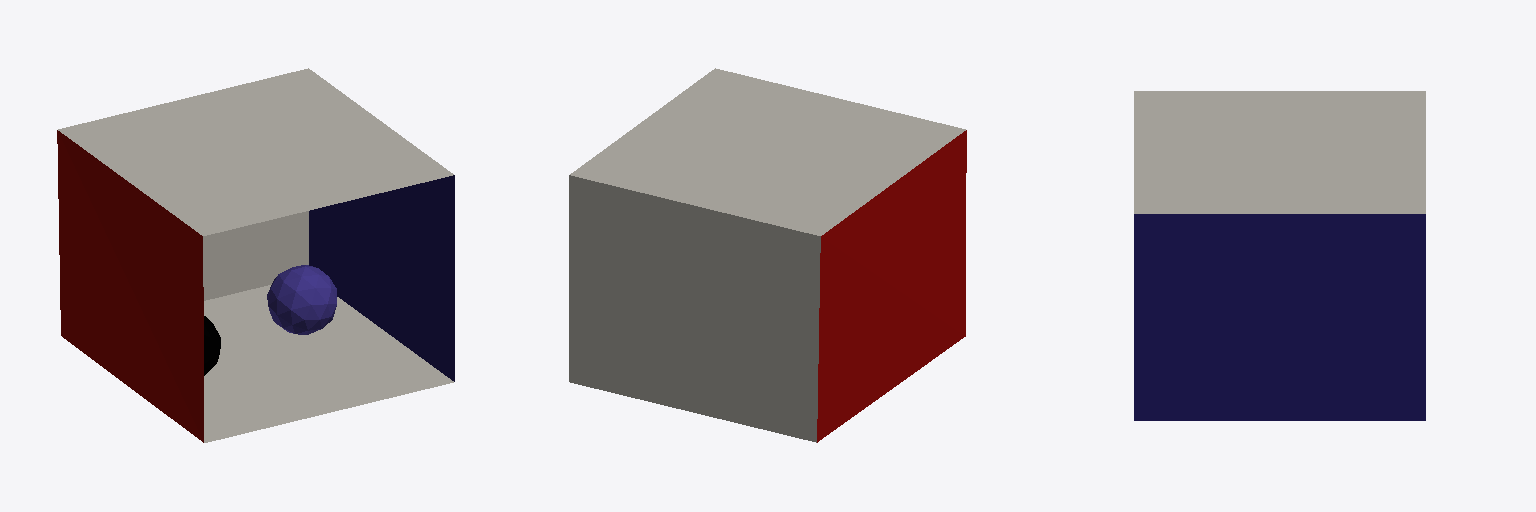
The model's file is CornellBox-Sphere-1348.obj.
The picture shows the model from 3 angles: view 1: azimuth 30°, elevation 25°; view 2: azimuth 150°, elevation 25°; view 3: azimuth 270°, elevation 25°; orthographic projection.
Parts seen in each view (by area): view 1: ceiling, leftWall, floor, rightWall, backWall, leftSphere, rightSphere; view 2: backWall, ceiling, leftWall; view 3: rightWall, ceiling.
Boxes of the visible parts, x1,y1,x2,y2 form: ceiling: [58, 68, 453, 235]; leftWall: [57, 130, 203, 442]; floor: [204, 285, 453, 442]; rightWall: [309, 175, 454, 381]; backWall: [203, 211, 308, 300]; leftSphere: [267, 265, 336, 334]; rightSphere: [204, 316, 220, 375]; backWall: [569, 175, 820, 442]; ceiling: [570, 68, 965, 235]; leftWall: [817, 130, 966, 442]; rightWall: [1134, 214, 1425, 420]; ceiling: [1134, 91, 1425, 213].
Bounding box in the file's own units: 2.02 × 1.59 × 2.03.